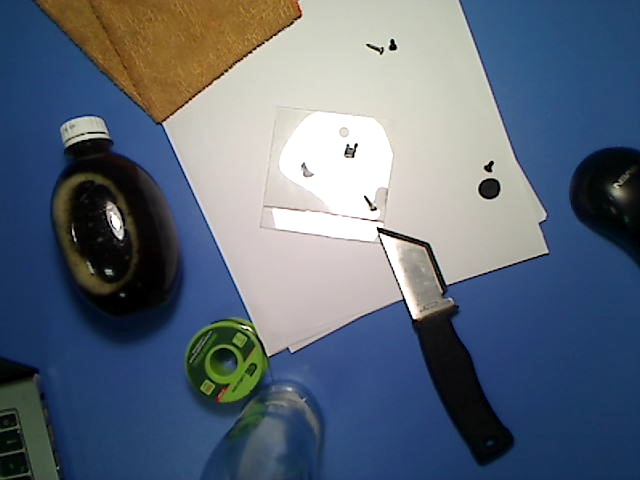plast_bottle: (43, 110, 190, 326)
